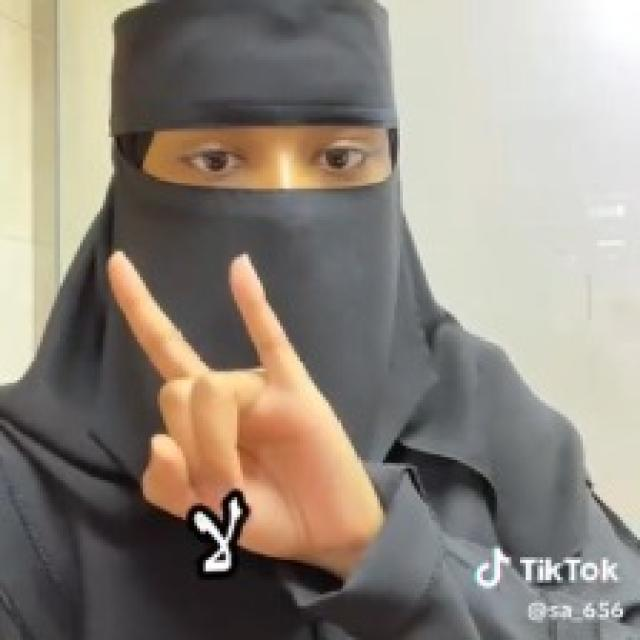No: (105, 242, 362, 555)
